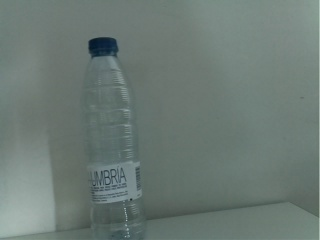botella plastico: (84, 36, 145, 240)
